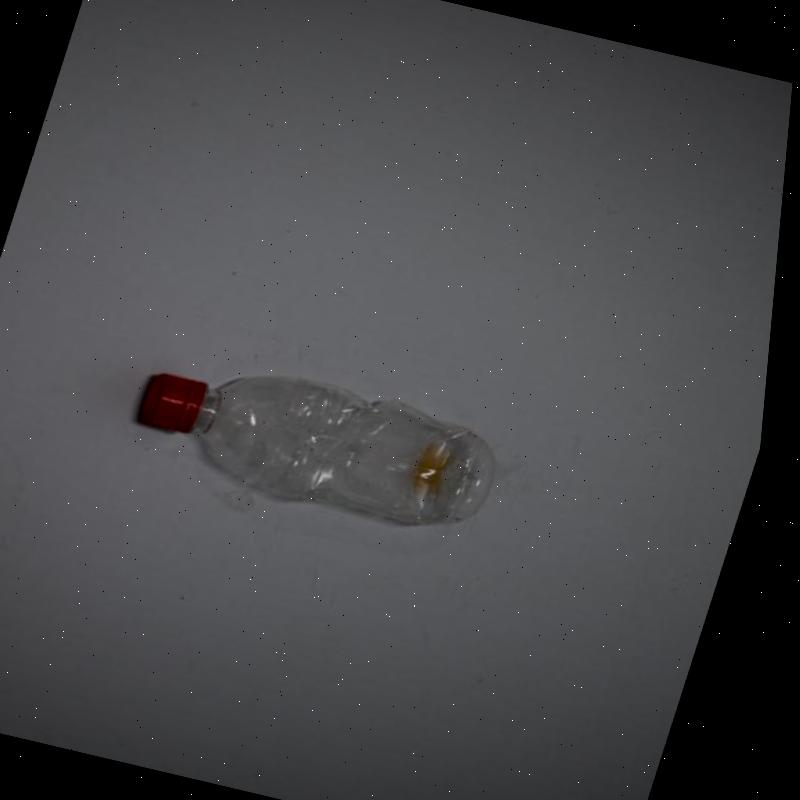botella: (126, 340, 530, 545)
